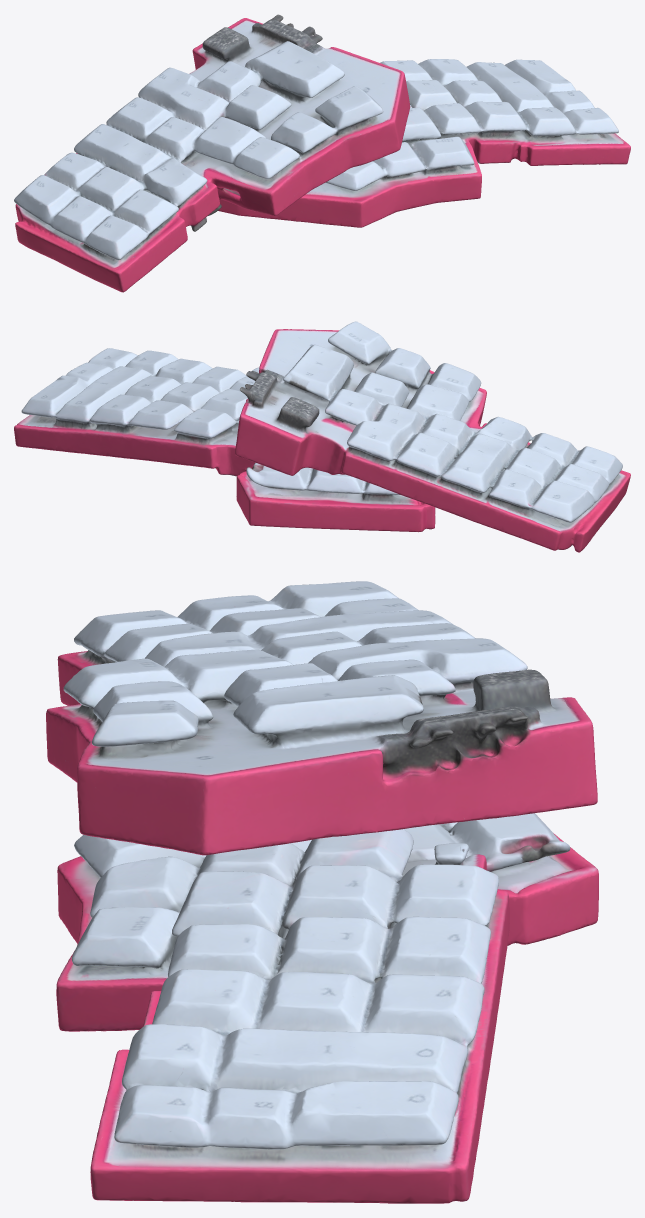
File: Duck.glb
3 renders of one model, top to bottom at view 1: azimuth 30°, elevation 25°; view 2: azimuth 150°, elevation 25°; view 3: azimuth 270°, elevation 25°, orthographic. The views are drawn at different scales.
Parts seen in each view (by area): view 1: mesh_node; view 2: mesh_node; view 3: mesh_node.
Part boxes in pixels (x1=…): mesh_node: x1=14, y1=14, x2=630, y2=292; mesh_node: x1=14, y1=321, x2=630, y2=552; mesh_node: x1=46, y1=581, x2=598, y2=1203.
Bounding box in the file's own units: 1.9 × 0.4308 × 0.8356.
Materials: 1 (1 with a texture image).
